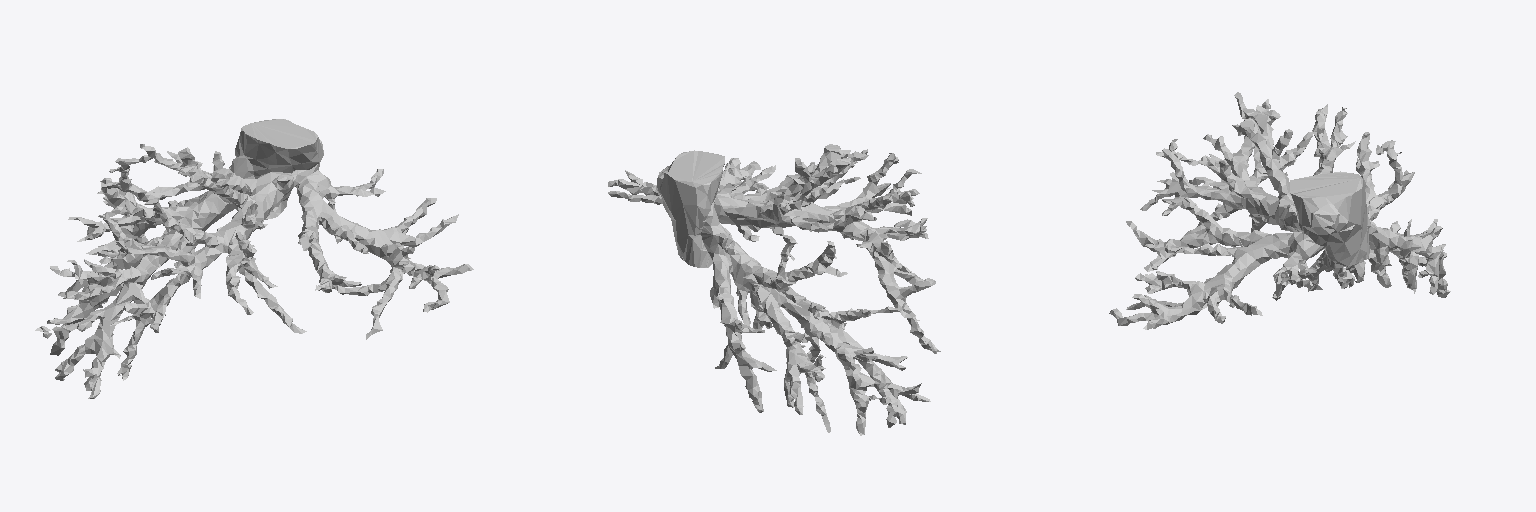
3 views of the same model, side by side, from view 1: azimuth 30°, elevation 25°; view 2: azimuth 150°, elevation 25°; view 3: azimuth 270°, elevation 25° (orthographic).
Visible parts, largest first — view 1: Polygonal_Model_12_Triangles_0; view 2: Polygonal_Model_12_Triangles_0; view 3: Polygonal_Model_12_Triangles_0.
Boxes of the visible parts, x1,y1,x2,y2 form: Polygonal_Model_12_Triangles_0: [35, 119, 473, 398]; Polygonal_Model_12_Triangles_0: [608, 144, 940, 435]; Polygonal_Model_12_Triangles_0: [1109, 92, 1450, 329].
Bounding box in the file's own units: 6.89 × 4.14 × 5.88.